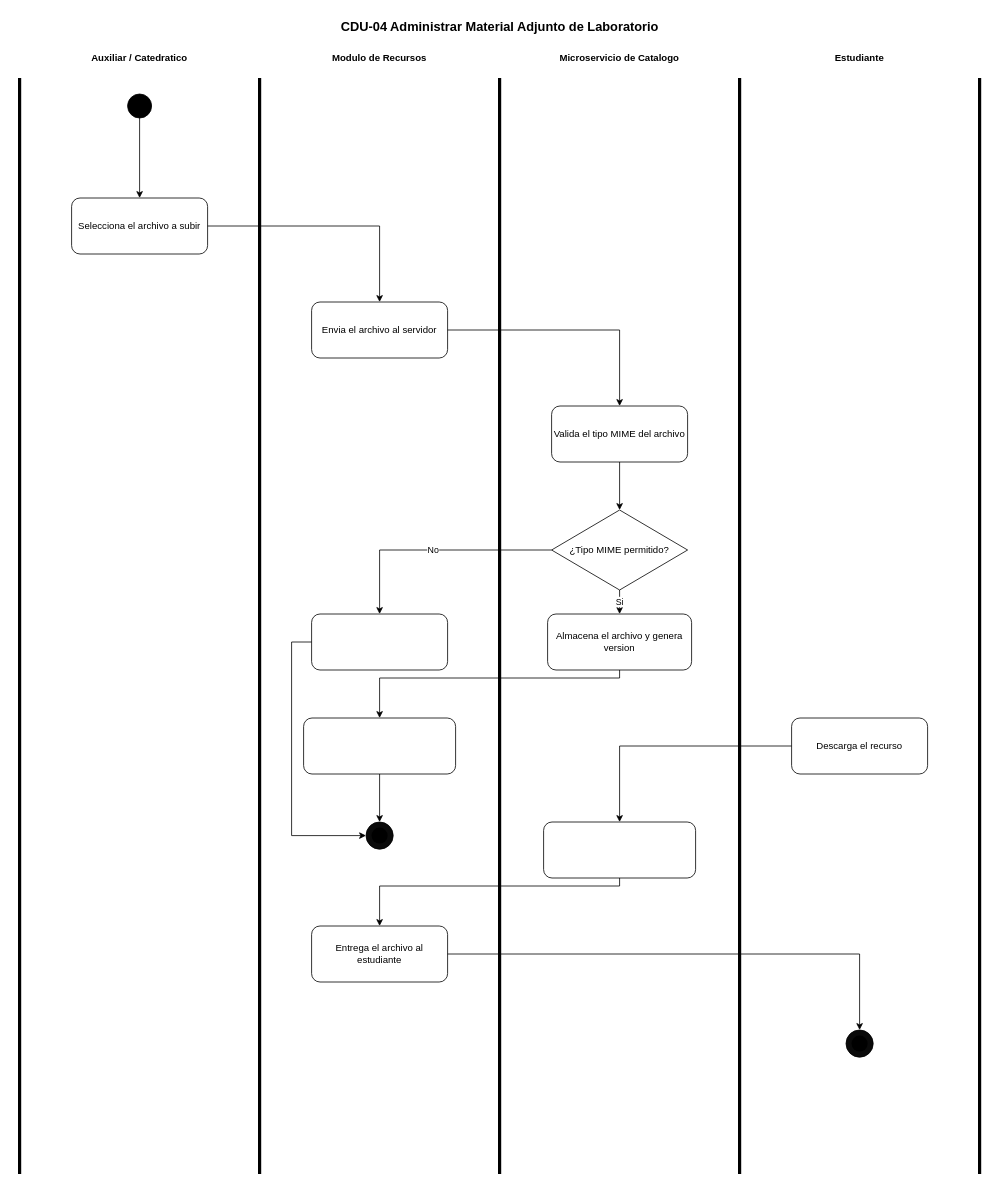
This 998x1189 diagram has some shape labels left out. The centre of each missing label's shape, as x and y in pixels:
"Actualiza el listado de recursos de la clase" belongs at [379,745].
"Rechaza la carga y notifica el error" belongs at [379,641].
"Registra la metrica de descarga por archivo" belongs at [619,849].
